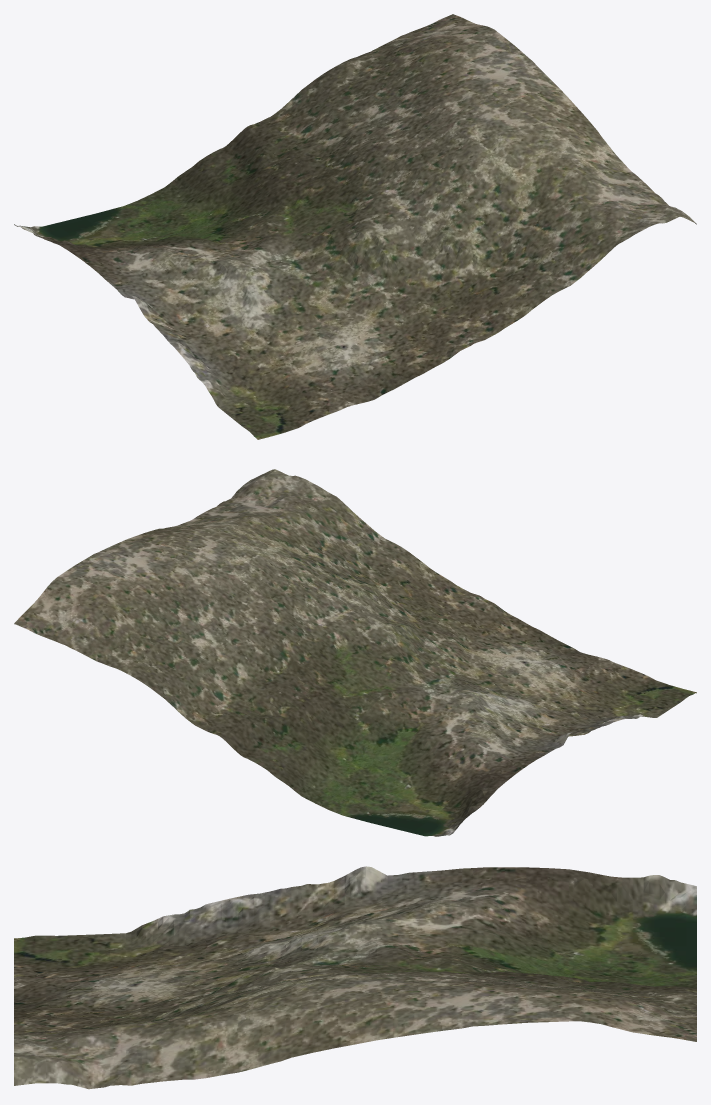
The picture shows the model from 3 angles, top to bottom: view 1: azimuth 30°, elevation 25°; view 2: azimuth 150°, elevation 25°; view 3: azimuth 270°, elevation 25°; orthographic projection. The views are drawn at different scales.
Bounding box in the file's own units: 500 × 170 × 481.
1 material, 1 textured.
